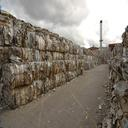cardboard: (103, 78, 127, 127), (0, 82, 34, 108), (2, 61, 32, 85), (0, 45, 21, 76), (0, 9, 15, 45), (106, 67, 122, 95), (108, 58, 127, 78), (13, 18, 27, 45), (26, 23, 36, 46), (36, 26, 45, 50), (33, 78, 45, 96), (100, 46, 112, 62), (107, 43, 122, 55), (21, 46, 33, 61), (32, 61, 42, 79), (45, 31, 54, 49), (81, 54, 91, 70), (52, 59, 64, 72), (44, 75, 53, 91), (54, 72, 65, 85), (32, 47, 42, 61), (52, 33, 60, 50), (40, 49, 52, 60), (43, 60, 51, 76), (64, 59, 75, 70), (121, 25, 127, 44), (65, 70, 75, 80), (51, 50, 62, 59), (90, 54, 97, 67), (121, 45, 127, 58), (60, 37, 66, 50), (74, 59, 81, 70), (66, 39, 70, 52), (70, 39, 74, 52), (62, 51, 68, 58), (74, 44, 78, 53), (71, 53, 77, 58), (79, 46, 82, 55), (75, 69, 80, 74), (68, 52, 72, 58), (76, 55, 79, 57)
